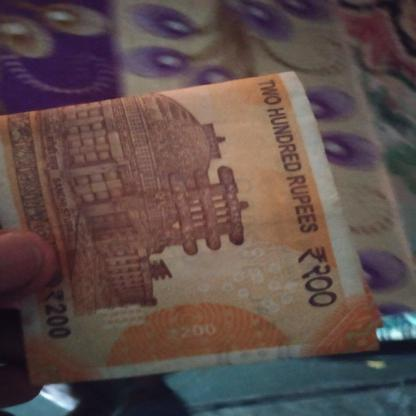New200Back: (2, 76, 350, 360)
